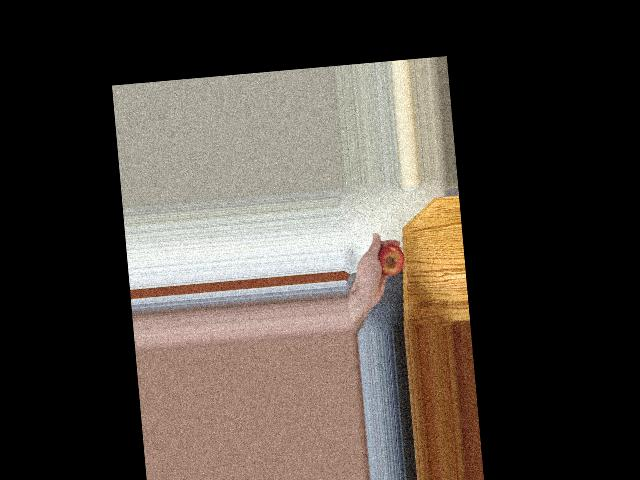apple: (373, 241, 406, 278)
